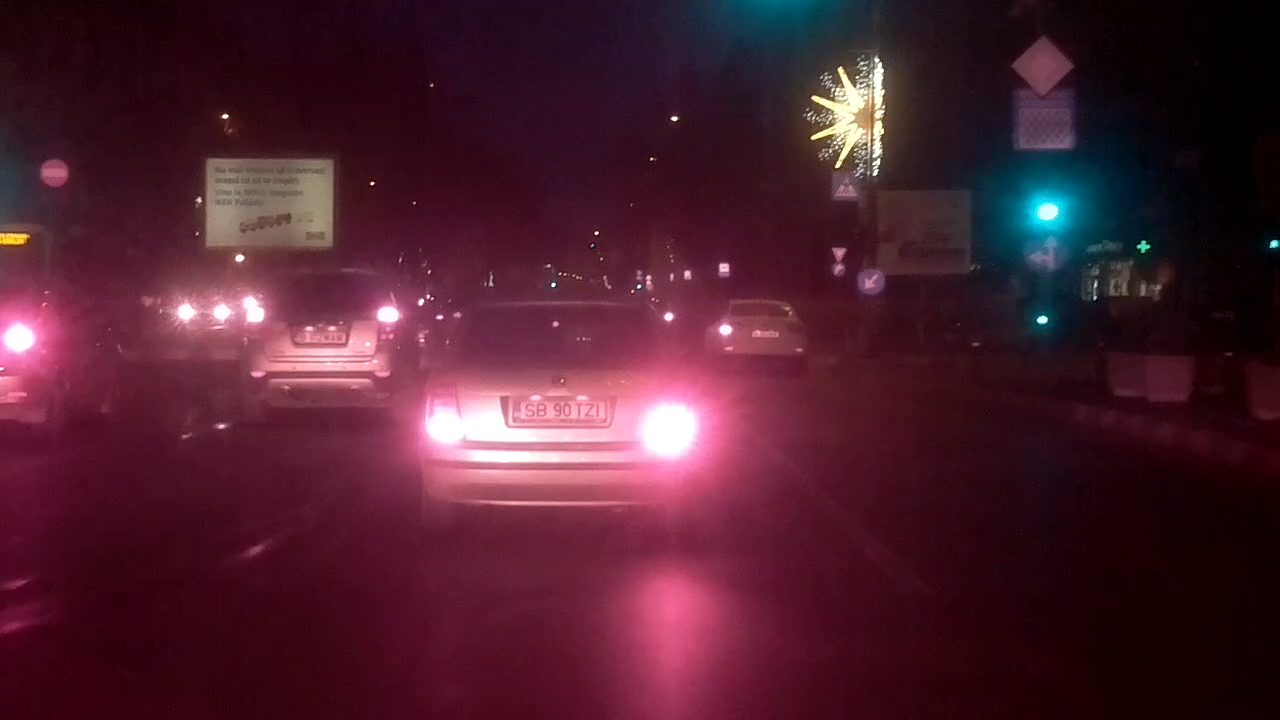license-plate: (509, 397, 611, 422)
